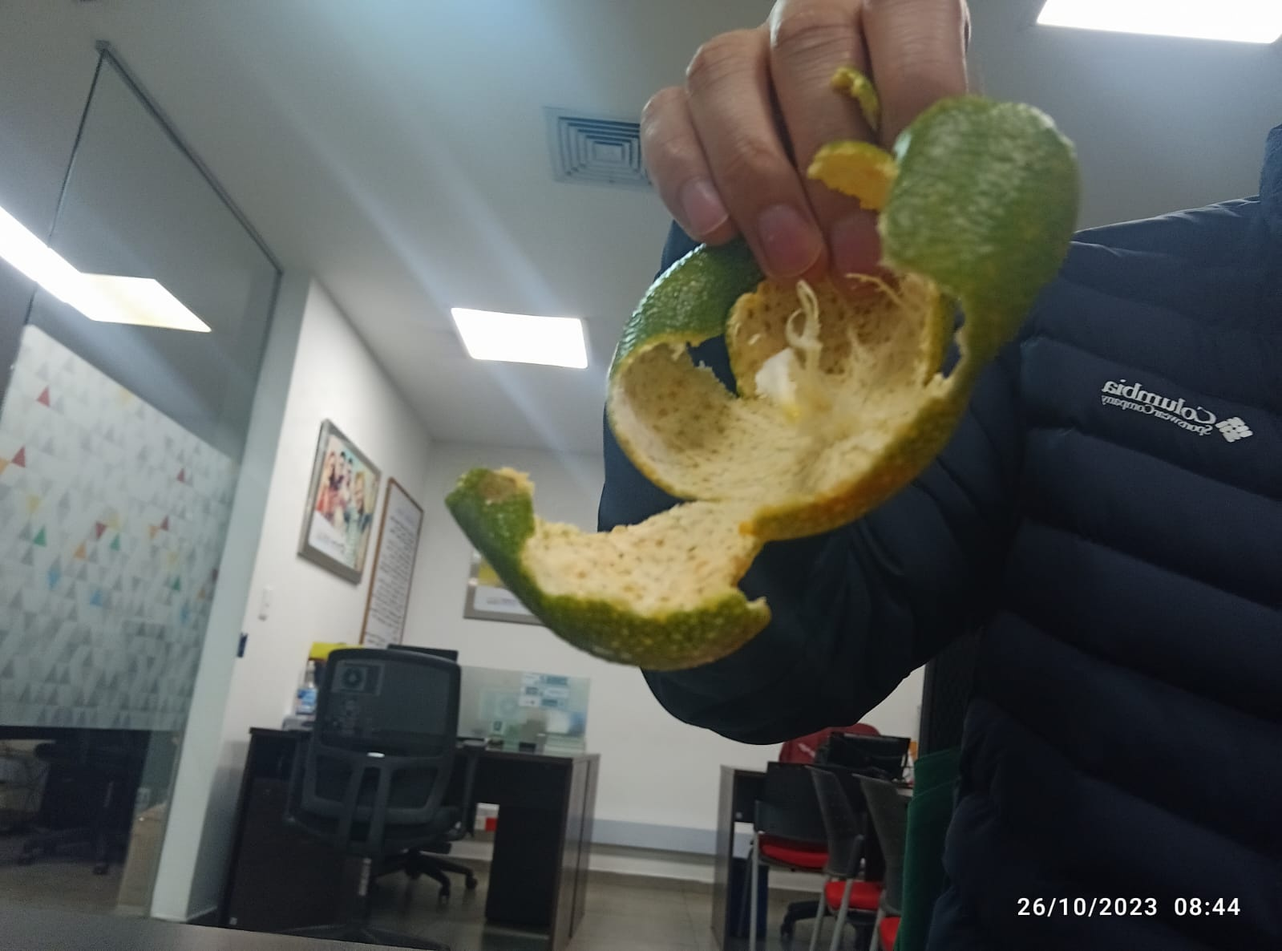Organico: (443, 93, 1083, 667)
